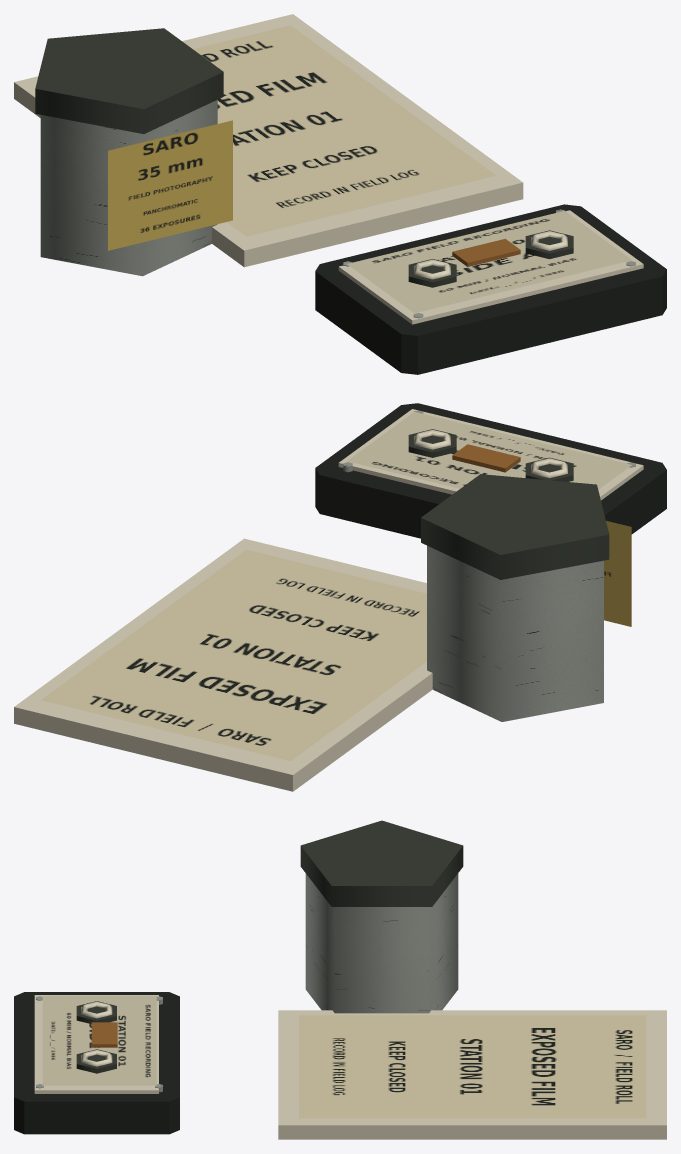
File: SM_FieldKit_EvidenceProps_LOD2.glb
The picture shows the model from 3 angles, top to bottom: view 1: azimuth 30°, elevation 25°; view 2: azimuth 150°, elevation 25°; view 3: azimuth 270°, elevation 25°; orthographic projection. The views are drawn at different scales.
Visible parts, largest first — view 1: SM_FieldKit_EvidenceProps_LOD2; view 2: SM_FieldKit_EvidenceProps_LOD2; view 3: SM_FieldKit_EvidenceProps_LOD2.
Part boxes in pixels (x1,y1,x2,y2): SM_FieldKit_EvidenceProps_LOD2: (14,14,666,374); SM_FieldKit_EvidenceProps_LOD2: (14,403,666,791); SM_FieldKit_EvidenceProps_LOD2: (14,820,666,1139).
Size of the model in its own units: 0.1605 by 0.061 by 0.252.
Materials: 6 (2 with a texture image).
